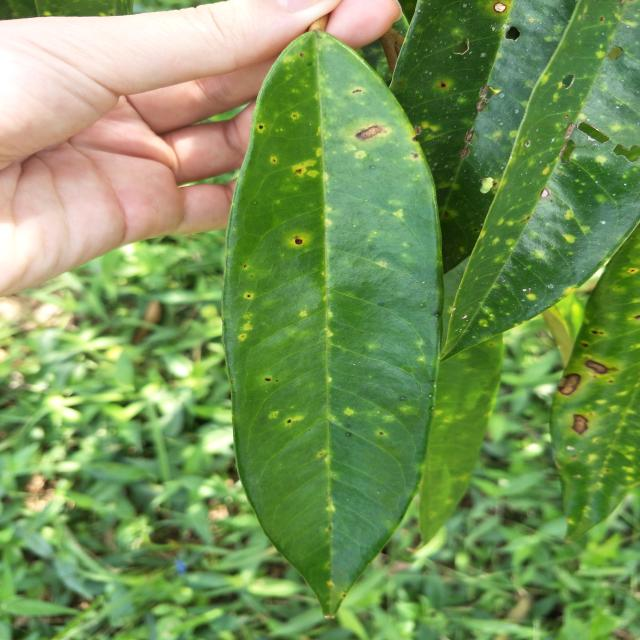Leaf Spot: (255, 110, 337, 176), (264, 367, 322, 433), (228, 257, 266, 351), (344, 109, 400, 152), (276, 223, 318, 254), (280, 222, 317, 255)
